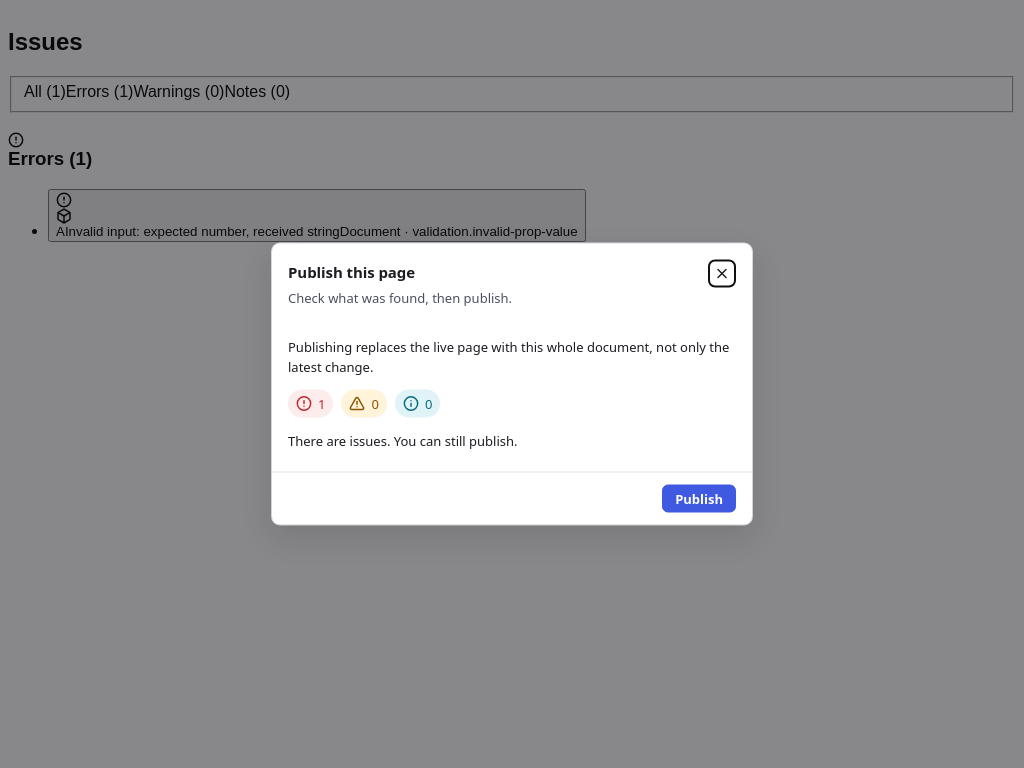
Test: the Issues panel and the publish dialog › warns but publishes under the warn policy, after saving
Step 1. Click the button "Publish" → (699, 498), box x1=662 y1=484 x2=736 y2=512
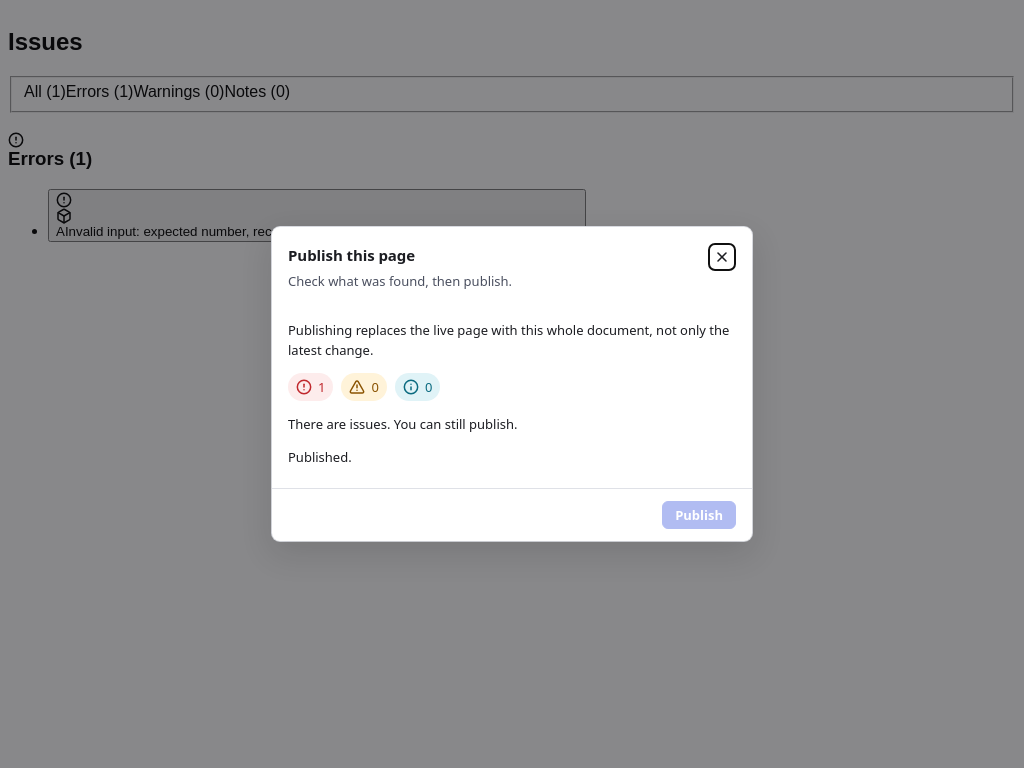
Result: the text "Published." is shown at x1=288 y1=448 x2=352 y2=466
